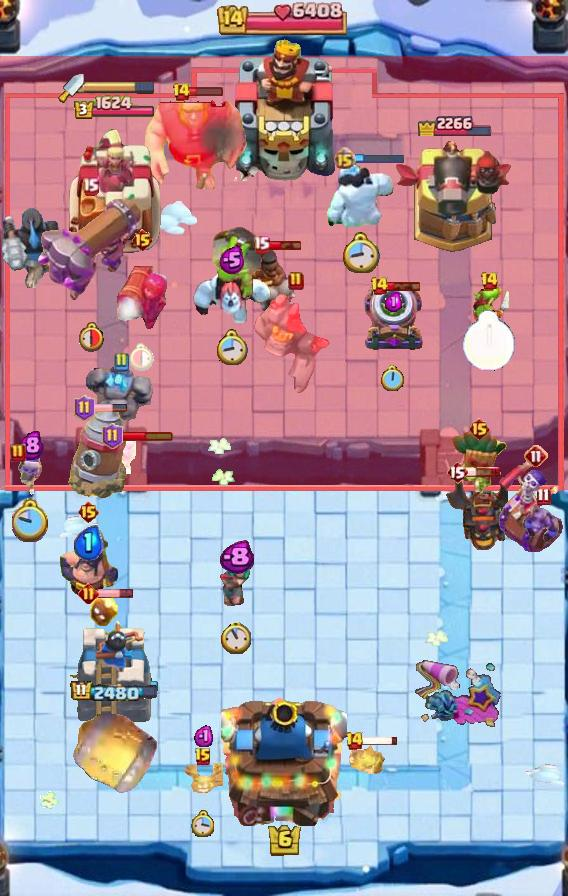archer-evolution: (442, 473, 508, 553)
balloon: (141, 91, 247, 189)
bar: (64, 124, 164, 256)
bar-level: (209, 222, 269, 298)
bomber: (87, 591, 121, 629)
cannoneer-tower: (252, 289, 340, 395)
clock: (217, 1, 351, 35)
dirt: (70, 706, 160, 798)
electro-spirit: (218, 541, 254, 575), (73, 525, 103, 560), (219, 245, 245, 275), (18, 430, 44, 460), (194, 725, 214, 748), (385, 292, 403, 312)
elite-barbarian: (249, 247, 301, 321)
elixir: (462, 310, 516, 372), (12, 498, 50, 542), (342, 231, 380, 273), (216, 329, 248, 365), (221, 622, 251, 655), (76, 321, 104, 351), (129, 341, 155, 370), (381, 365, 405, 393), (191, 811, 215, 838)
emote: (121, 430, 174, 442), (353, 152, 405, 163), (267, 239, 303, 251), (465, 466, 501, 478), (97, 588, 134, 599), (361, 735, 398, 746), (188, 87, 224, 98), (387, 280, 422, 291), (92, 403, 128, 413)
furnace: (36, 195, 144, 305)
goblin: (16, 451, 46, 497), (111, 432, 139, 474)
goblin-barrel: (449, 429, 509, 505)
goblin-cage: (361, 283, 425, 353)
ice-spirit-evolution: (347, 742, 389, 778), (183, 763, 223, 795)
inferno-dragon: (0, 207, 62, 297)
king-tower: (221, 690, 347, 826), (228, 35, 340, 181)
king-tower-bar: (84, 80, 156, 94)
magic-archer: (67, 406, 127, 500)
mega-minion: (113, 252, 171, 332)
monk: (57, 525, 119, 603)
queen-tower: (70, 616, 158, 731)
rage: (326, 161, 396, 227), (192, 269, 272, 323)
royal-delivery: (523, 501, 563, 545)
selected: (72, 95, 155, 121), (69, 680, 158, 704), (416, 110, 493, 136)
skeleton-king-bar: (498, 456, 568, 556)
text: (130, 228, 154, 252), (524, 444, 548, 468), (468, 417, 491, 441), (77, 500, 100, 524), (73, 395, 94, 421), (101, 423, 122, 449), (333, 146, 356, 169), (446, 460, 468, 484), (78, 583, 99, 604), (480, 271, 500, 291), (370, 276, 390, 296), (173, 82, 192, 102), (344, 731, 363, 751), (194, 747, 212, 767), (82, 176, 99, 195), (254, 234, 271, 253), (288, 271, 304, 291), (113, 352, 129, 372), (10, 443, 26, 463), (537, 486, 552, 505)
tower-bar: (392, 138, 514, 256)
valkyrie-evolution: (85, 362, 157, 430)
witch: (218, 554, 254, 606)
zap: (467, 285, 511, 329)
